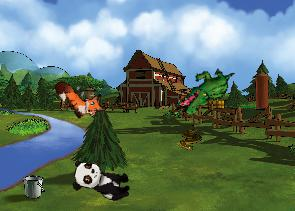crocodile: (175, 56, 236, 125)
fox: (51, 66, 110, 128)
panda: (69, 158, 134, 203)
